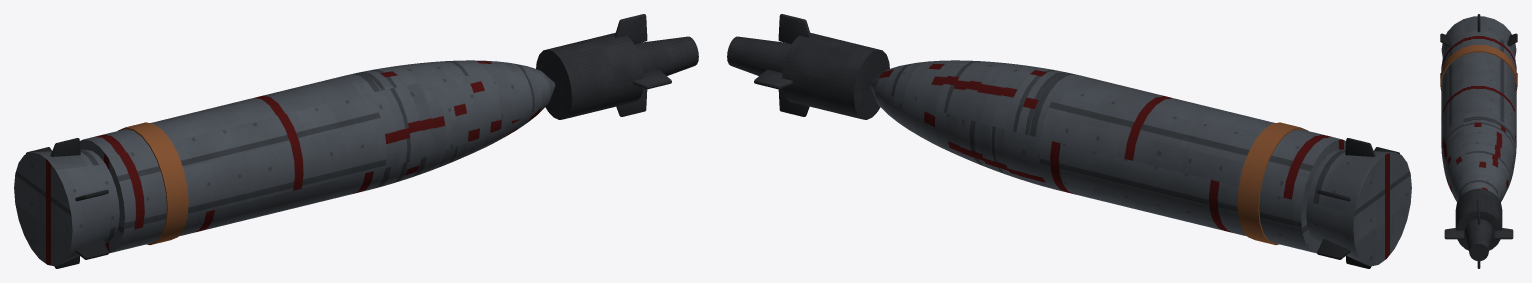
Rendered from mun_shell.glb.
3 renders of one model, left to right at view 1: azimuth 30°, elevation 25°; view 2: azimuth 150°, elevation 25°; view 3: azimuth 270°, elevation 25°, orthographic. The views are drawn at different scales.
Parts seen in each view (by area): view 1: mun_shell; view 2: mun_shell; view 3: mun_shell.
Boxes of the visible parts, bbox=[...] form: mun_shell: bbox=[14, 14, 698, 268]; mun_shell: bbox=[727, 14, 1411, 268]; mun_shell: bbox=[1440, 14, 1517, 268].
Size of the model in its own units: 0.99 by 0.1836 by 0.1598.
Materials: 4 (2 with a texture image).
